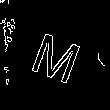M_N: (26, 19, 85, 82)
